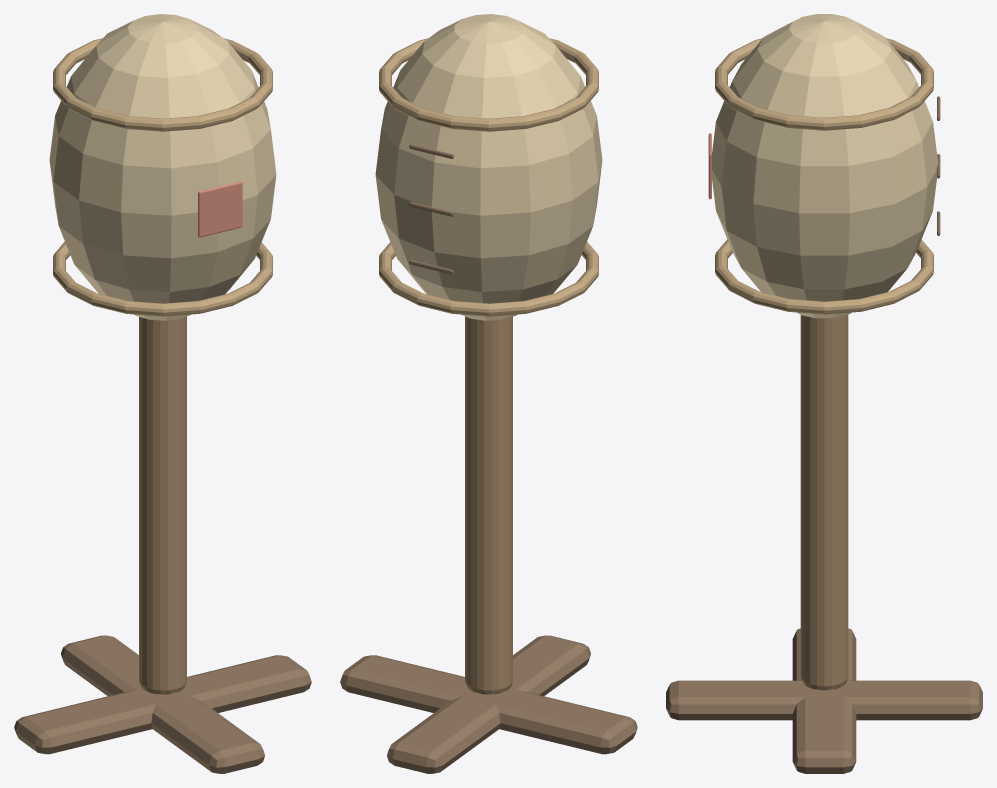
File: practice_dummy.glb
3 views of the same model, side by side, from view 1: azimuth 30°, elevation 25°; view 2: azimuth 150°, elevation 25°; view 3: azimuth 270°, elevation 25° (orthographic).
Parts seen in each view (by area): view 1: Sandbag, Pole, BaseA, BaseB, Rope1, Rope0, Patch; view 2: Sandbag, Pole, BaseA, BaseB, Rope1, Rope0; view 3: Sandbag, Pole, BaseB, BaseA, Rope1, Rope0.
Part boxes in pixels (x1,y1,x2,y2): Sandbag: (49,14,276,320); Pole: (139,316,186,694); BaseA: (14,655,311,754); BaseB: (61,635,264,773); Rope1: (53,38,272,131); Rope0: (53,242,272,316); Patch: (198,181,242,237); Sandbag: (375,14,602,320); Pole: (465,316,512,694); BaseA: (340,655,637,754); BaseB: (387,635,590,773); Rope1: (379,38,598,131); Rope0: (379,242,598,316); Sandbag: (712,14,938,318); Pole: (800,315,848,690); BaseB: (666,680,982,720); BaseA: (792,628,856,773); Rope1: (715,38,933,130); Rope0: (715,239,933,314).
Size of the model in its own units: 0.5 by 1.2 by 0.5.
